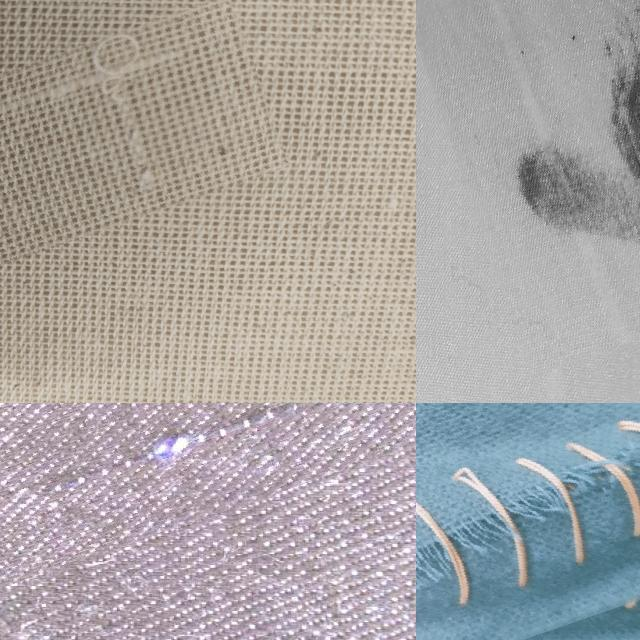Thread_other: (421, 0, 640, 356)
Thread_out: (416, 403, 640, 640)
stains: (0, 403, 416, 557), (0, 19, 277, 249)
